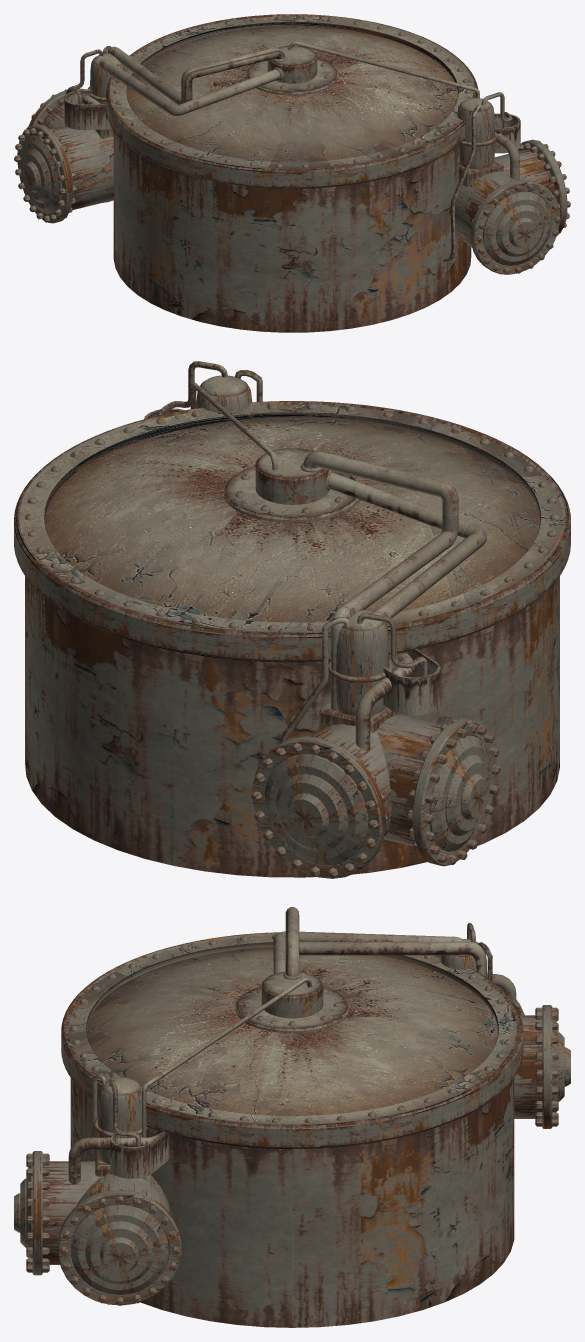
File: static.fbx
3 views of the same model, one above another, from view 1: azimuth 30°, elevation 25°; view 2: azimuth 150°, elevation 25°; view 3: azimuth 270°, elevation 25° (orthographic). The views are drawn at different scales.
Visible parts, largest first — view 1: Cylinder_4_5, Cylinder_3_2, Tube, Cylinder_1_13, Sweep, Sweep_1, Cylinder_0, Tube_3, Cylinder_2_2, Cylinder_1_4, Cylinder_2, Tube_6 (+17 smaller); view 2: Cylinder_4_5, Cylinder_3_2, Tube, Sweep, Cylinder_0_5, Sweep_1, Tube_5, Cylinder_1_13, Cylinder_3_5, Cylinder, Cylinder_2, Tube_6 (+14 smaller); view 3: Cylinder_4_5, Cylinder_3_2, Tube, Cylinder_0_3, Sweep, Tube_4, Cylinder_1_4, Cylinder_2, Cylinder_1_5, Cylinder, Cylinder_2_2, Cylinder_1_10 (+9 smaller).
Boxes of the visible parts, x1,y1,x2,y2 form: Cylinder_4_5: [113, 131, 471, 332]; Cylinder_3_2: [127, 26, 457, 162]; Tube: [106, 14, 478, 188]; Cylinder_1_13: [53, 126, 113, 209]; Sweep: [107, 46, 285, 104]; Sweep_1: [99, 59, 280, 115]; Cylinder_0: [483, 191, 552, 265]; Tube_3: [471, 179, 559, 274]; Cylinder_2_2: [457, 98, 494, 168]; Cylinder_1_4: [455, 170, 520, 246]; Cylinder_2: [246, 58, 338, 95]; Tube_6: [17, 124, 73, 223]; Cylinder_4_5: [25, 576, 559, 877]; Cylinder_3_2: [44, 418, 540, 622]; Tube: [14, 401, 570, 662]; Sweep: [303, 451, 458, 710]; Cylinder_0_5: [264, 754, 367, 865]; Sweep_1: [328, 472, 486, 617]; Tube_5: [252, 736, 385, 878]; Cylinder_1_13: [376, 715, 441, 846]; Cylinder_3_5: [336, 610, 389, 715]; Cylinder: [255, 448, 329, 504]; Cylinder_2: [224, 466, 359, 522]; Tube_6: [412, 718, 495, 866]; Cylinder_4_5: [70, 1078, 514, 1327]; Cylinder_3_2: [86, 947, 498, 1115]; Tube: [61, 932, 523, 1148]; Cylinder_0_3: [70, 1204, 168, 1294]; Sweep: [285, 907, 484, 976]; Tube_4: [57, 1190, 181, 1305]; Cylinder_1_4: [42, 1161, 101, 1264]; Cylinder_2: [235, 986, 349, 1033]; Cylinder_1_5: [85, 1221, 153, 1284]; Cylinder: [261, 971, 323, 1018]; Cylinder_2_2: [97, 1077, 142, 1164]; Cylinder_1_10: [514, 1015, 542, 1118].
Bounding box in the file's own units: 645 × 338 × 645.
Materials: 4 (4 with a texture image).
